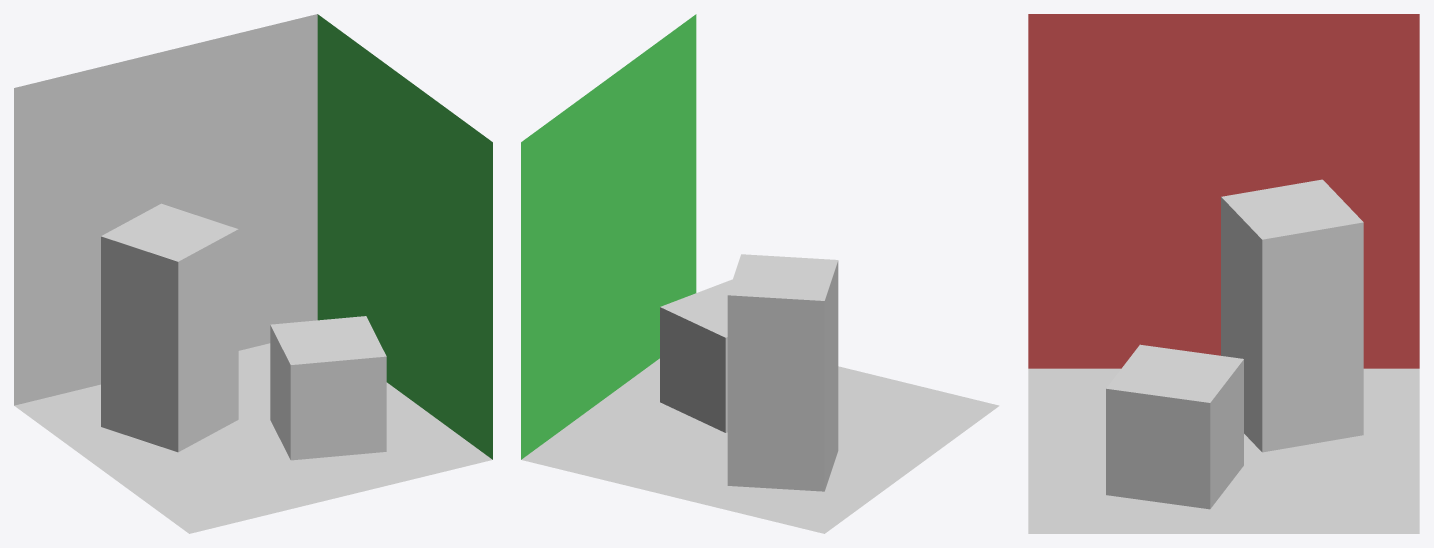
The model's file is CornellBox.gltf.
The picture shows the model from 3 angles, left to right: view 1: azimuth 30°, elevation 25°; view 2: azimuth 150°, elevation 25°; view 3: azimuth 270°, elevation 25°; orthographic projection. The views are drawn at different scales.
Visible parts, largest first — view 1: CornellBox; view 2: CornellBox; view 3: CornellBox.
Part boxes in pixels (x1=…): CornellBox: x1=14, y1=14, x2=492, y2=533; CornellBox: x1=521, y1=14, x2=999, y2=533; CornellBox: x1=1028, y1=14, x2=1419, y2=533.
Size of the model in its own units: 2 by 2 by 2.
